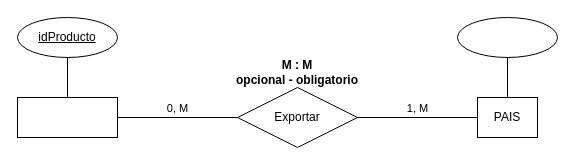
The diagram is 575 pixels wide and 165 high, and some of its shapes have lost their labels. Here are the shapes that lost their labels. From the top down, the centre of each, then its label:
At point 507,37: "codPais".
At point 67,117: "PRODUCTO".
